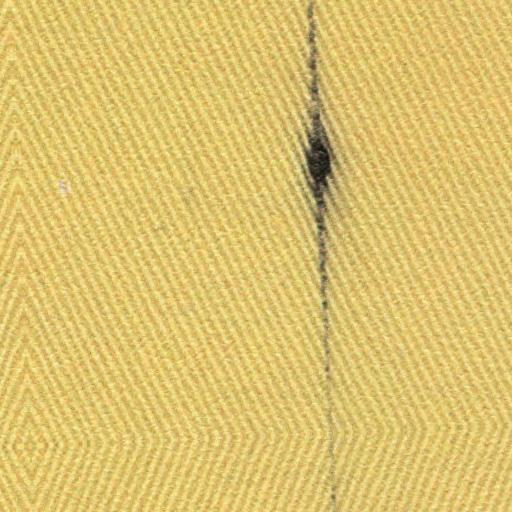stain: (291, 1, 352, 511)
